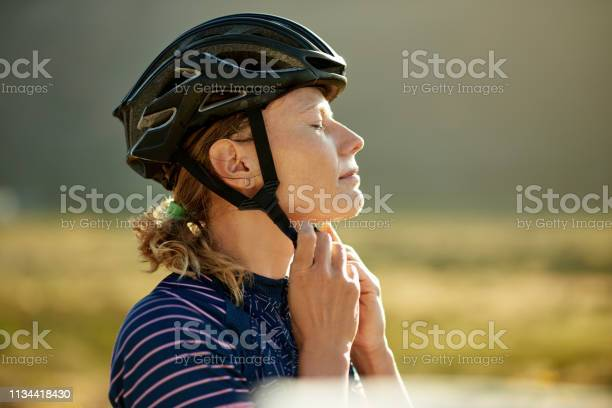helmet: (111, 13, 366, 227)
